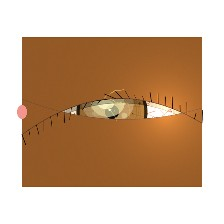corneal_ulcer: (81, 82, 135, 125)
